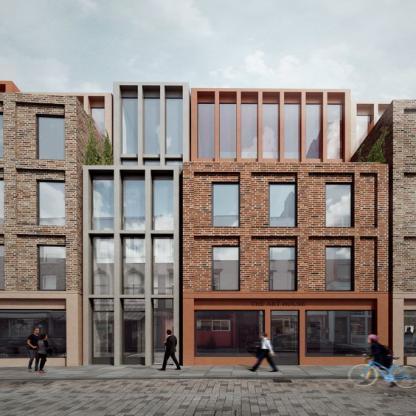Building Outline: (83, 81, 389, 366)
Deco: (251, 302, 306, 306)
Door: (271, 310, 298, 365)
Facade: (83, 81, 389, 366)
Floor Slab: (184, 228, 389, 235), (184, 292, 389, 299)
Glass Wall: (306, 311, 377, 357), (195, 310, 264, 356), (93, 299, 114, 364), (92, 237, 115, 294), (122, 237, 145, 294), (153, 299, 173, 364), (124, 299, 144, 364), (92, 176, 115, 231), (122, 176, 145, 231), (153, 237, 174, 294), (152, 176, 173, 231), (166, 98, 183, 154), (122, 98, 137, 154), (145, 98, 160, 154)
Window: (194, 237, 240, 292), (194, 172, 240, 227), (308, 237, 354, 292), (308, 172, 354, 227), (251, 172, 296, 227), (251, 237, 296, 292), (88, 297, 114, 366), (120, 298, 145, 366), (88, 170, 114, 231), (88, 234, 114, 295), (151, 298, 174, 366), (120, 170, 145, 231), (120, 234, 145, 294), (151, 170, 174, 231), (151, 234, 174, 294), (327, 92, 346, 163), (240, 92, 259, 163), (197, 91, 215, 164), (119, 85, 138, 154), (142, 85, 161, 154), (164, 85, 183, 154), (219, 92, 237, 163), (263, 92, 281, 163), (284, 92, 302, 163), (305, 92, 323, 163), (212, 246, 240, 291), (269, 246, 297, 291), (212, 182, 240, 227), (269, 183, 297, 227), (325, 246, 352, 291), (325, 183, 352, 227), (360, 237, 378, 292), (360, 173, 378, 228), (198, 104, 215, 159), (220, 104, 237, 159), (241, 104, 258, 159), (327, 104, 343, 159), (263, 104, 279, 159), (284, 104, 300, 159), (306, 104, 322, 159)
